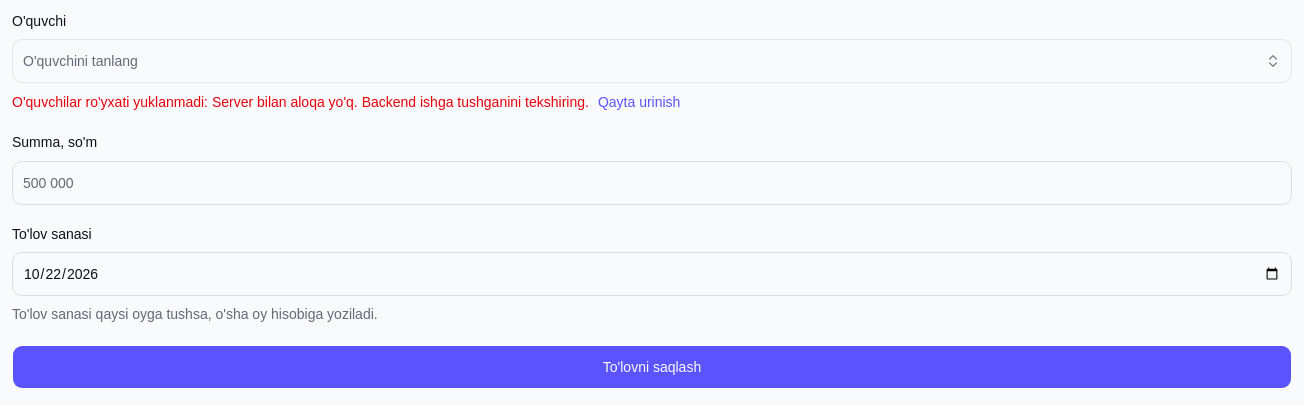
Test: PaymentForm › o'quvchilar yuklanmasa sababini aytadi va qayta urinish beradi
expect the text "Server bilan aloqa yo'q" is shown: met, box [212,94,585,110]
What coordinates should you click on to do the following:
click the button "Qayta urinish"
I would click on:
 (639, 102)
Its box is [597,91,681,113].
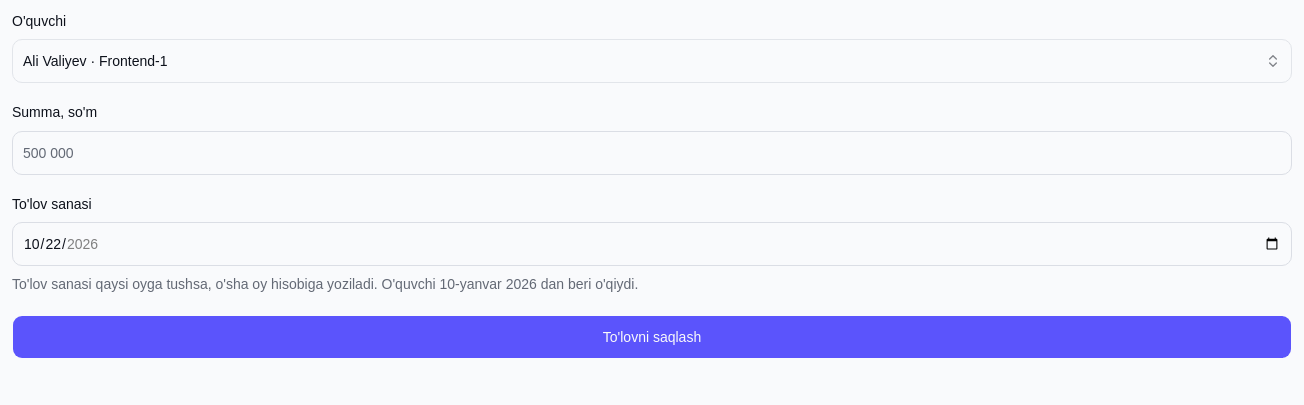
expect the text "Ali Valiyev · Frontend-1" is shown: met, box [23,51,168,71]
